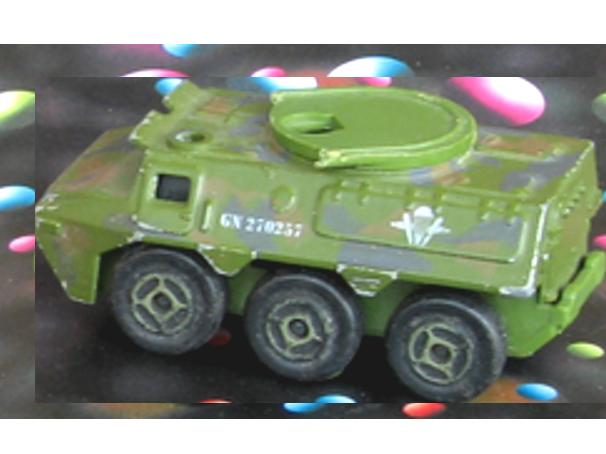toy-car: (35, 77, 606, 403)
